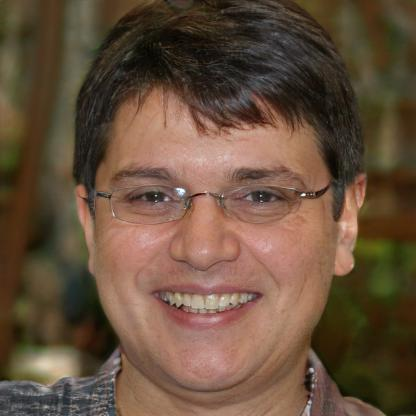glasses: (97, 180, 326, 230)
